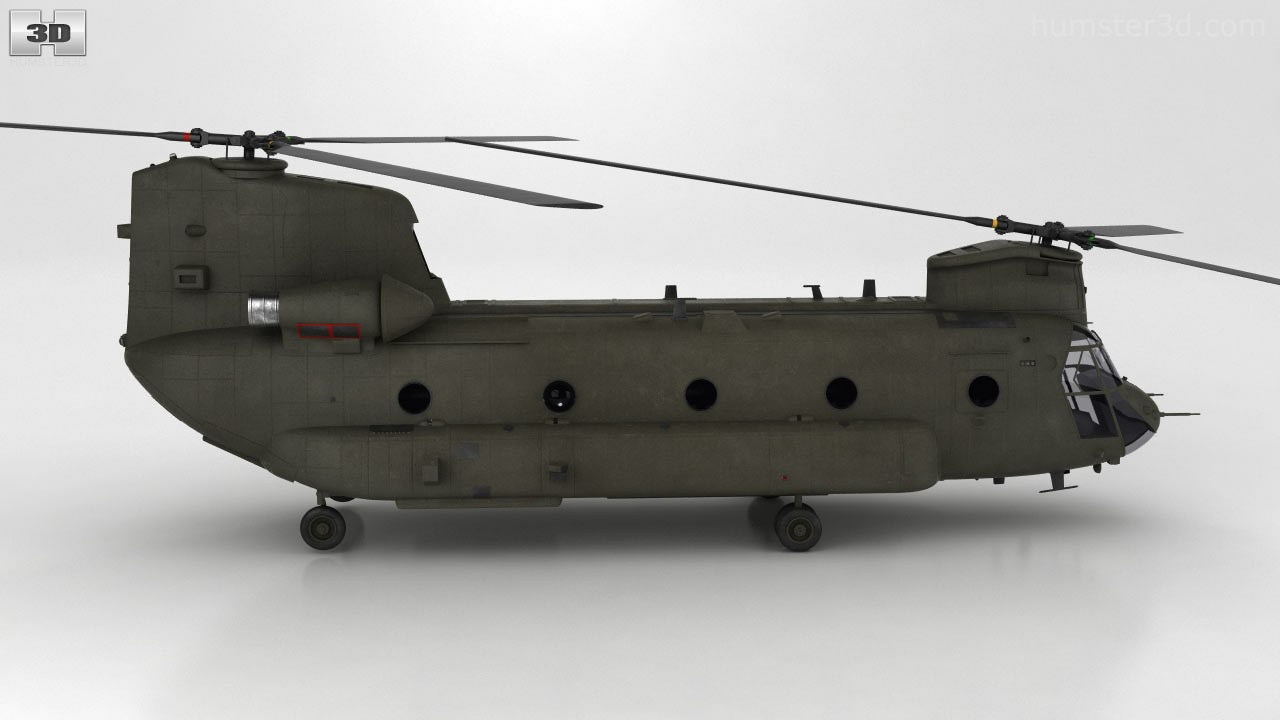chinook: (27, 116, 1271, 556)
